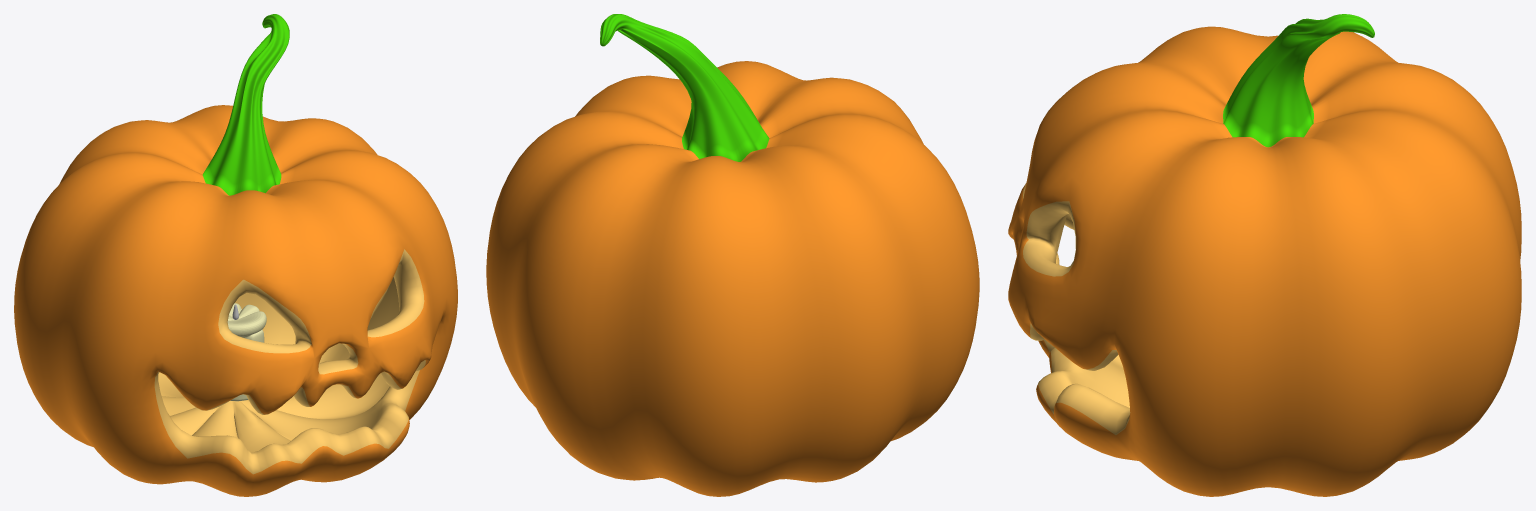
The picture shows the model from 3 angles, left to right: view 1: azimuth 30°, elevation 25°; view 2: azimuth 150°, elevation 25°; view 3: azimuth 270°, elevation 25°; orthographic projection. The views are drawn at different scales.
Visible parts, largest first — view 1: Pumpkin, Candle; view 2: Pumpkin; view 3: Pumpkin.
Boxes of the visible parts, box(x1,y1,x2,y2) form: Pumpkin: box(14, 14, 457, 496); Candle: box(227, 303, 266, 401); Pumpkin: box(486, 14, 979, 496); Pumpkin: box(1008, 14, 1521, 496).
Bounding box in the file's own units: 62.94 × 64.29 × 63.74.
